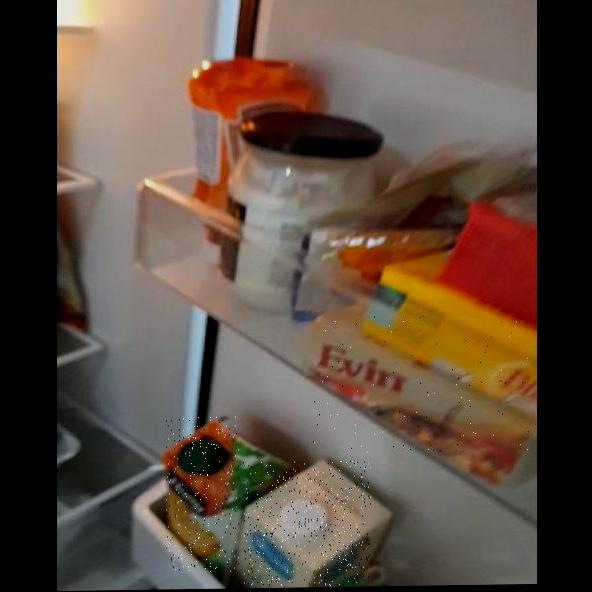butter: (310, 314, 532, 454)
juice: (166, 417, 239, 572)
milk: (243, 460, 370, 588)
